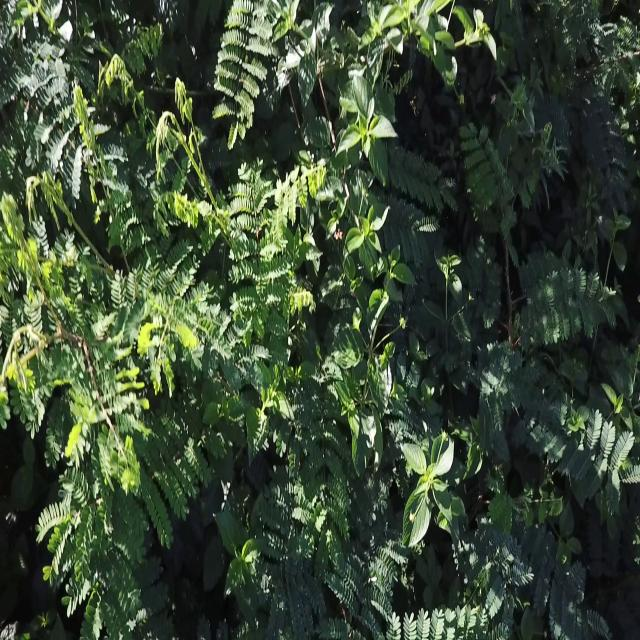Mysore-Thorn-Weed: (0, 170, 281, 640), (396, 86, 634, 503), (271, 518, 587, 640), (0, 0, 126, 158), (212, 0, 284, 141)
